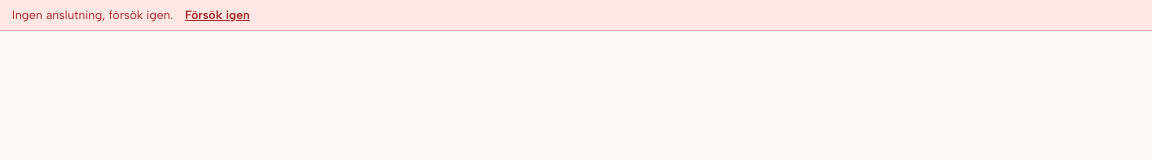
it: ProfileOfflineBanner (BIN-559) › knappen är avstängd och säger Försöker… medan försöket pågår, och kommer tillbaka efteråt
This screenshot has width=1152, height=160.
Click the button "Försök igen": (217, 15) [185,6,250,24]
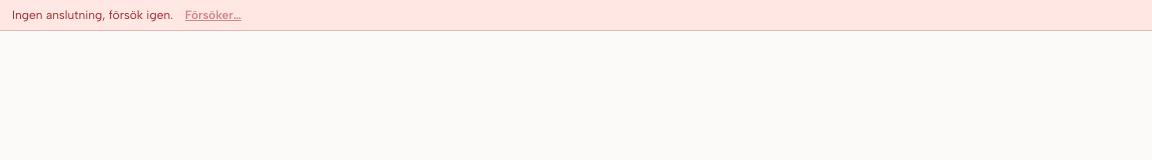
Result: the button "Försöker…" is disabled
Click the button "Försöker…": (213, 15) [185,6,241,24]
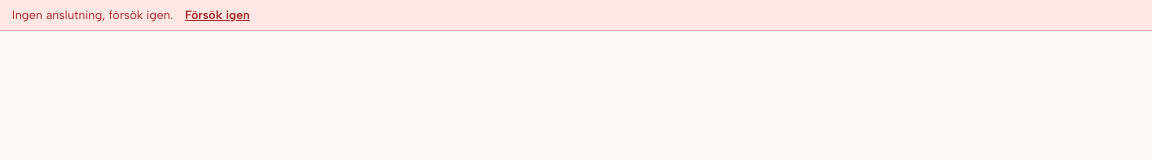
Result: the button "Försök igen" is enabled at [185,6,250,24]
